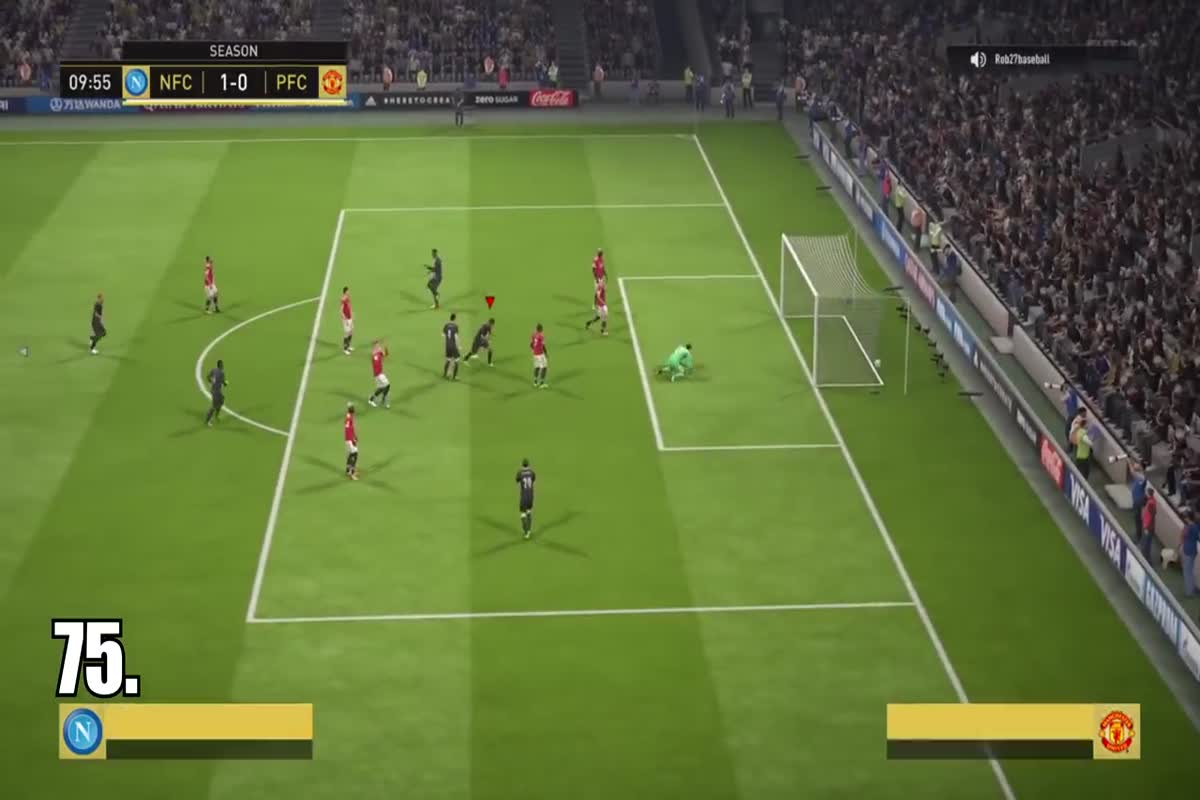ball: (872, 350, 890, 370)
